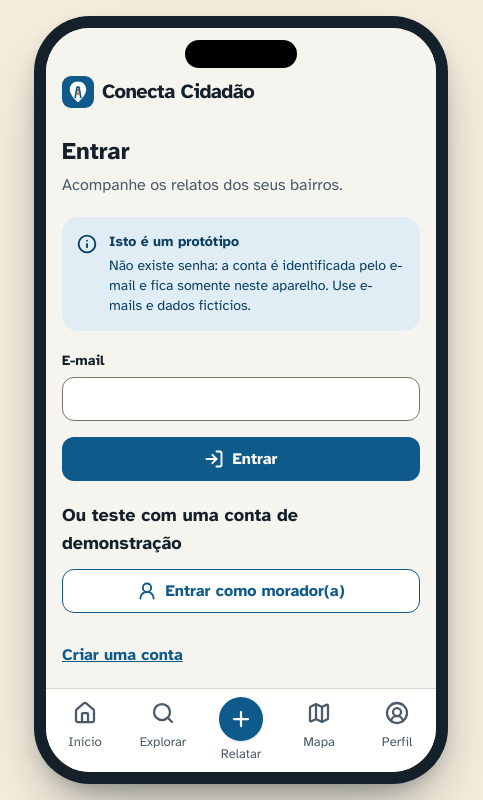
Test: guardas de rota › depois do login, volta para a tela que o visitante tentou abrir
This screenshot has width=483, height=800.
Click the button "Entrar como morador(a)".
click(241, 591)  # box [62, 569, 420, 613]
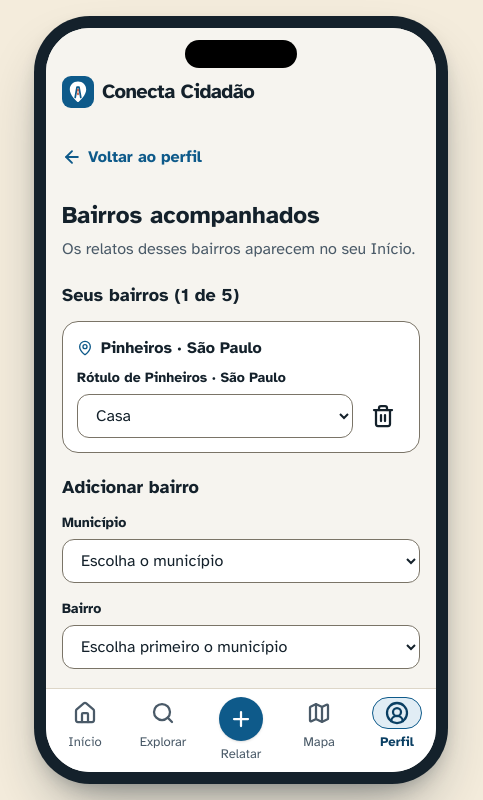
Expected: the heading "Bairros acompanhados" is shown, [62, 200, 320, 230]
